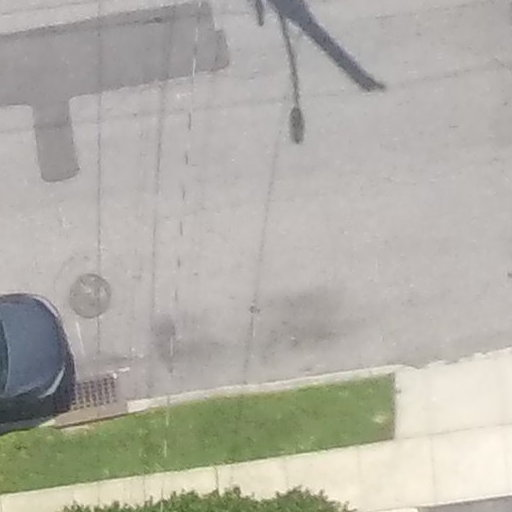drain: (43, 368, 129, 440)
